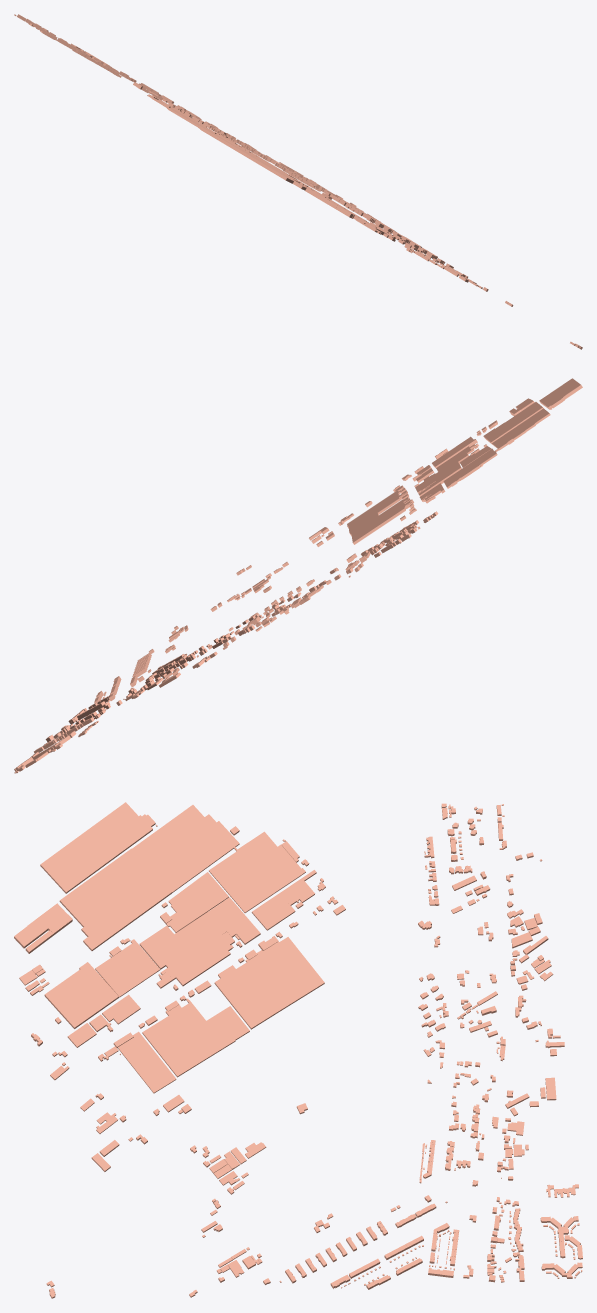
3 renders of one model, top to bottom at view 1: azimuth 30°, elevation 25°; view 2: azimuth 150°, elevation 25°; view 3: azimuth 270°, elevation 25°, orthographic. The views are drawn at different scales.
Bounding box in the file's own units: 1032 × 773 × 1272.
